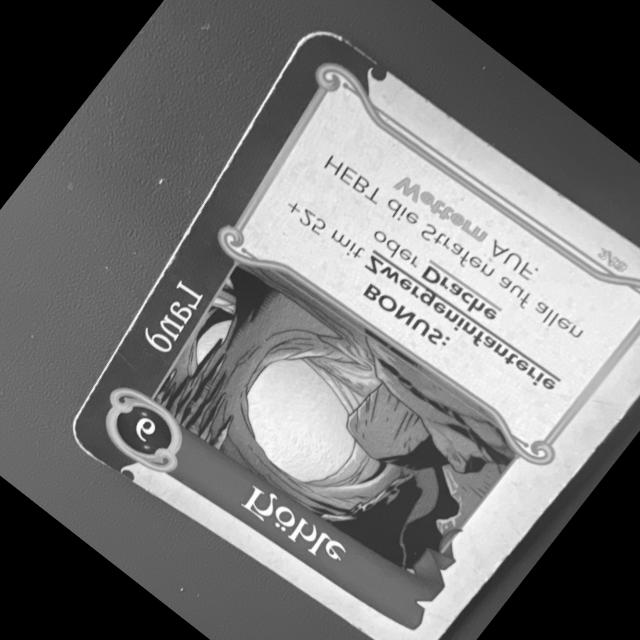Underground Caverns: (53, 16, 640, 640)
